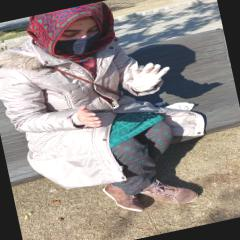gloved: (120, 55, 172, 93)
not-gloved: (73, 102, 102, 131)
